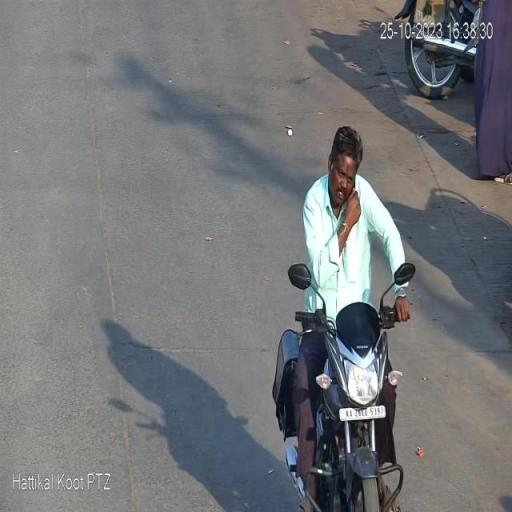using mobile: (346, 165, 358, 226)
